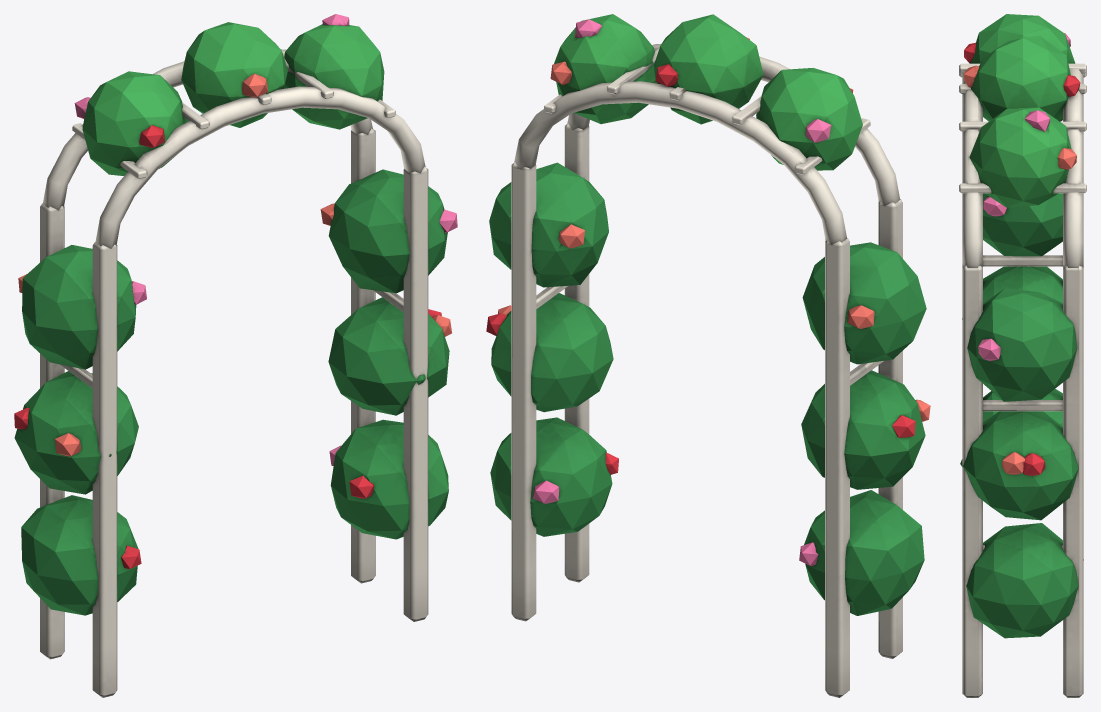
Rendered from rose_arch.glb.
3 renders of one model, left to right at view 1: azimuth 30°, elevation 25°; view 2: azimuth 150°, elevation 25°; view 3: azimuth 270°, elevation 25°, orthographic. The views are drawn at different scales.
Visible parts, largest first — view 1: rose_arch; view 2: rose_arch; view 3: rose_arch.
Boxes of the visible parts, bbox=[...] form: rose_arch: bbox=[14, 14, 457, 697]; rose_arch: bbox=[486, 14, 930, 697]; rose_arch: bbox=[959, 14, 1086, 697].
Size of the model in its own units: 2.05 by 2.83 by 0.56.
Materials: 6 (6 with a texture image).
